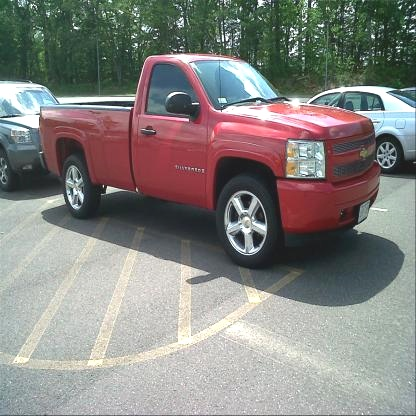Vehicle: (39, 56, 381, 268)
